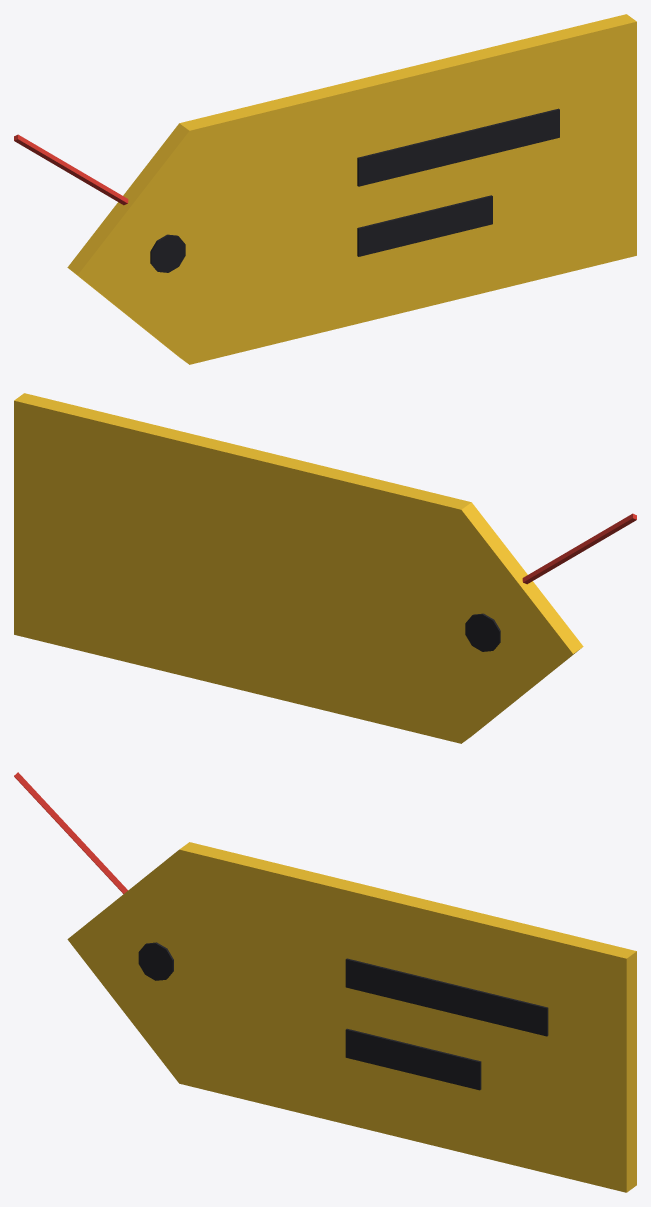
The model's file is giant_price_tag.glb.
The picture shows the model from 3 angles, top to bottom: view 1: azimuth 30°, elevation 25°; view 2: azimuth 150°, elevation 25°; view 3: azimuth 330°, elevation 25°; orthographic projection.
Visible parts, largest first — view 1: card_price_tag_card, tip_price_tag_card, sign_price_tag_ink (×2), hole_price_tag_hole, string_price_tag_string; view 2: card_price_tag_card, tip_price_tag_card, hole_price_tag_hole, string_price_tag_string; view 3: card_price_tag_card, tip_price_tag_card, sign_price_tag_ink (×2), hole_price_tag_hole, string_price_tag_string.
Boxes of the visible parts, x1,y1,x2,y2 form: card_price_tag_card: (179, 14, 636, 364); tip_price_tag_card: (67, 123, 299, 364); sign_price_tag_ink (×2): (357, 108, 559, 256); hole_price_tag_hole: (150, 234, 185, 272); string_price_tag_string: (14, 134, 128, 205); card_price_tag_card: (14, 393, 471, 743); tip_price_tag_card: (349, 502, 583, 743); hole_price_tag_hole: (465, 613, 500, 651); string_price_tag_string: (522, 513, 636, 584); card_price_tag_card: (179, 842, 636, 1192); tip_price_tag_card: (67, 850, 279, 1083); sign_price_tag_ink (×2): (345, 958, 548, 1090); hole_price_tag_hole: (138, 942, 173, 980); string_price_tag_string: (14, 772, 127, 893).
Bounding box in the file's own units: 2.76 × 1.14 × 0.1.
